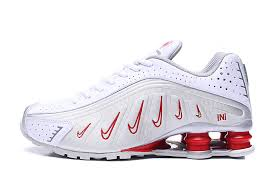nike: (149, 86, 170, 139), (128, 95, 148, 144), (98, 109, 122, 146), (174, 90, 192, 129), (75, 118, 93, 146), (191, 98, 208, 127)
